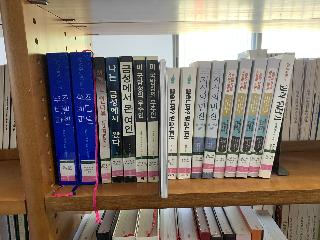book-spine: (259, 53, 295, 179), (47, 51, 78, 186), (246, 57, 280, 178), (70, 51, 100, 185), (236, 57, 267, 178), (224, 58, 252, 177), (213, 60, 238, 178), (201, 60, 224, 179), (105, 57, 125, 183), (191, 60, 211, 179), (93, 57, 111, 184), (177, 67, 197, 179), (120, 56, 136, 183), (133, 56, 147, 183), (146, 56, 159, 182), (166, 67, 180, 179)
